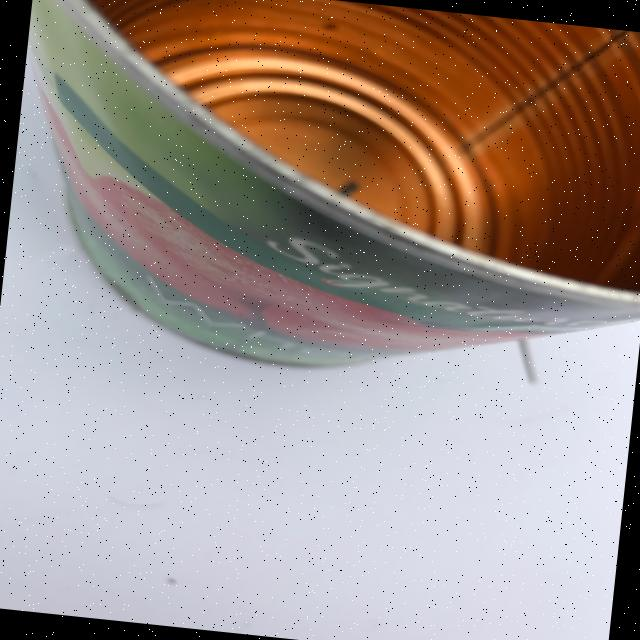metal: (0, 0, 640, 402)
